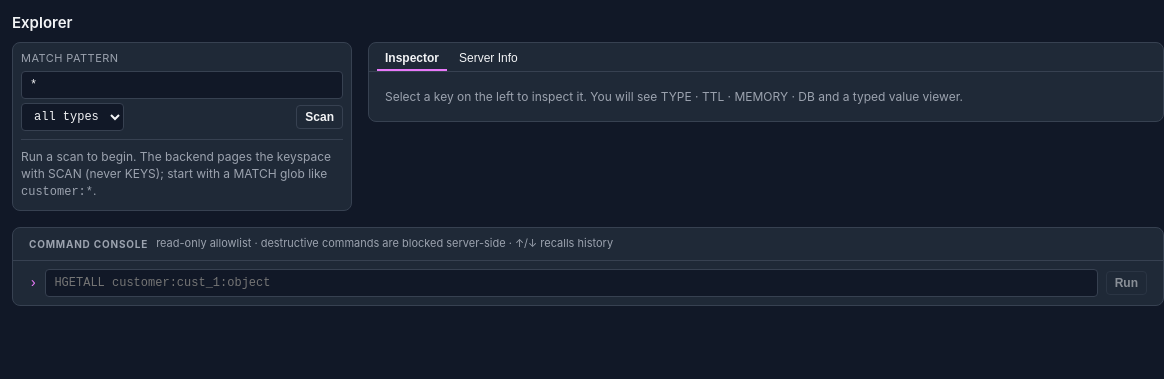
Test: key scan (SCAN paging, no seed) › is idle until a scan runs, then renders matched keys
The width and height of the screenshot is (1164, 379).
expect the element with test id "explorer-scan-idle" is shown: met, box [21,148,343,202]
Step 1. Click the button with test id "explorer-scan" → click(320, 117), box [296,105,343,129]
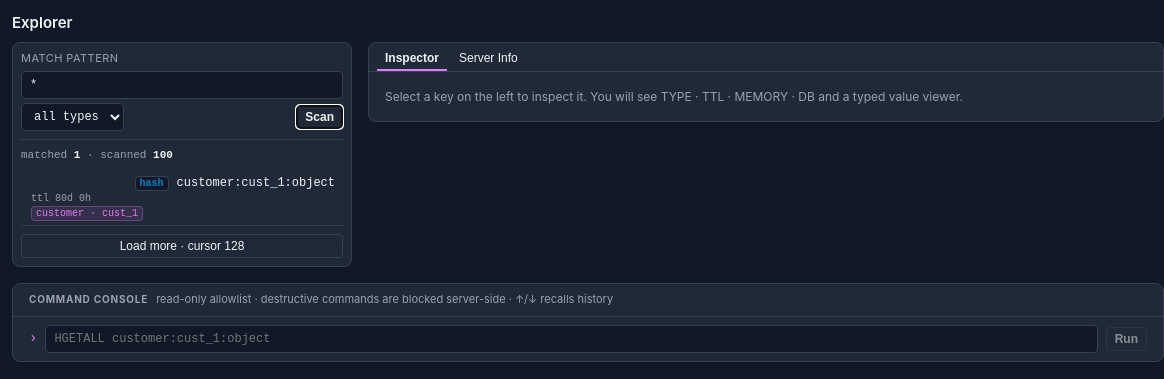
expect the button with test id "explorer-key-customer:cust_1:object" is shown: met, box [21,172,343,226]
expect the element with test id "explorer-scan-count" shows "matched": met, box [21,149,74,161]
expect the text with test id "explorer-key-badge-customer:cust_1:object" shows "customer": met, box [36,208,84,219]
